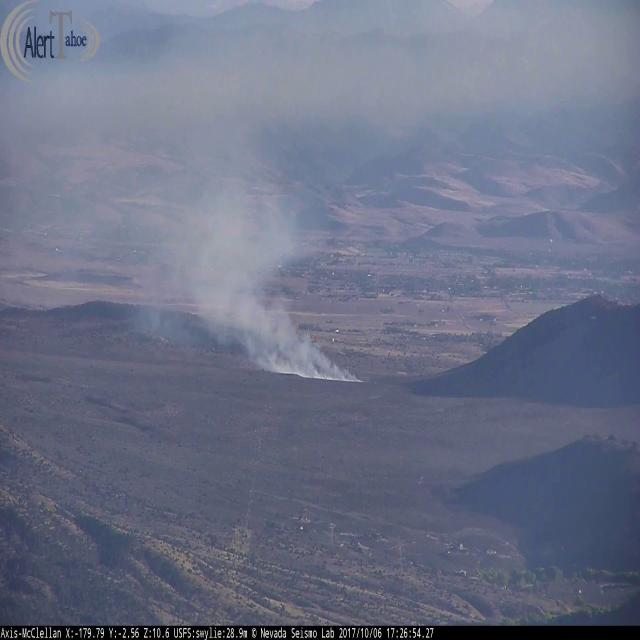smoke: (140, 138, 370, 398)
